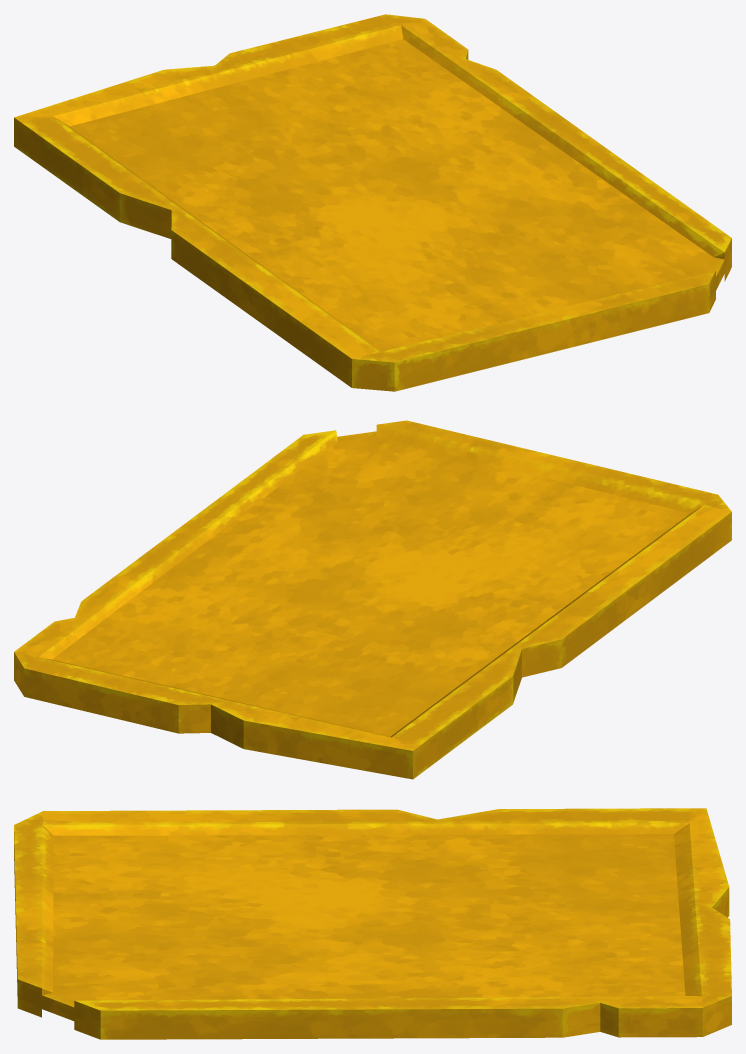
Rendered from Prototipo_Ficha.fbx.
3 views of the same model, one above another, from view 1: azimuth 30°, elevation 25°; view 2: azimuth 150°, elevation 25°; view 3: azimuth 270°, elevation 25° (orthographic). The views are drawn at different scales.
Parts seen in each view (by area): view 1: Plane.002; view 2: Plane.002; view 3: Plane.002.
Boxes of the visible parts, x1=… form: Plane.002: x1=14, y1=14, x2=731, y2=391; Plane.002: x1=14, y1=420, x2=731, y2=779; Plane.002: x1=14, y1=808, x2=731, y2=1039.
Size of the model in its own units: 203 by 13.6 by 304.
Materials: 1 (1 with a texture image).
